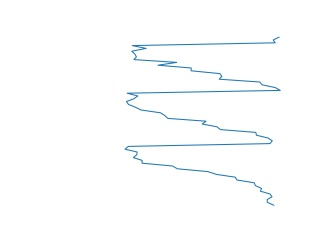distributaryMouthBar: (122, 36, 280, 207)
